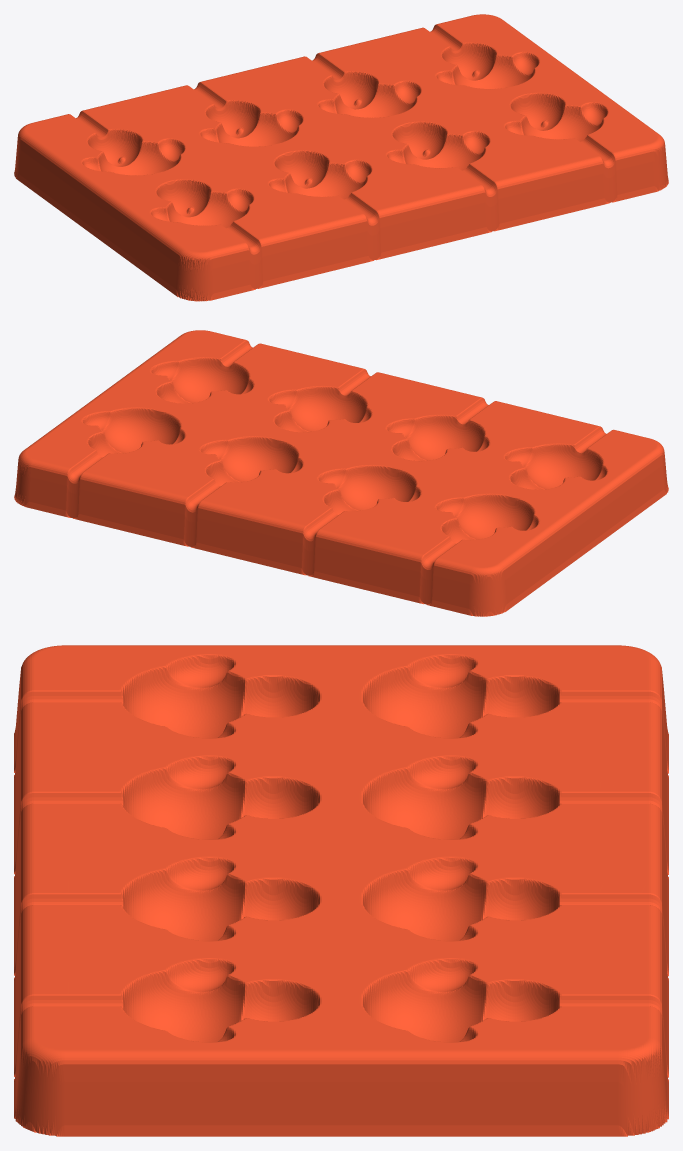
Rendered from mold.glb.
The picture shows the model from 3 angles, top to bottom: view 1: azimuth 30°, elevation 25°; view 2: azimuth 150°, elevation 25°; view 3: azimuth 270°, elevation 25°; orthographic projection. The views are drawn at different scales.
Parts seen in each view (by area): view 1: geometry_0; view 2: geometry_0; view 3: geometry_0.
Boxes of the visible parts, bbox=[...] form: geometry_0: bbox=[14, 14, 668, 301]; geometry_0: bbox=[14, 330, 668, 616]; geometry_0: bbox=[14, 645, 668, 1136].
Size of the model in its own units: 0.1779 by 0.0154 by 0.1171.
